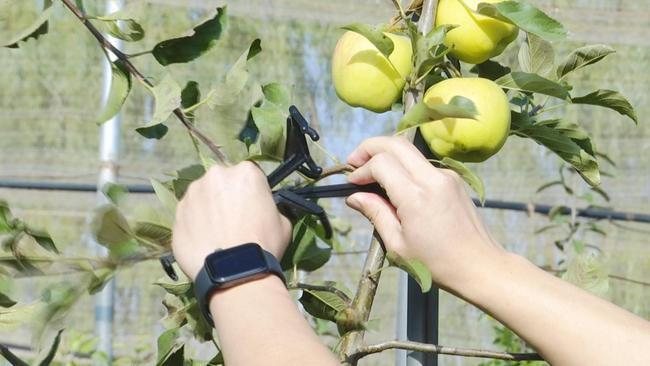apple: (415, 76, 511, 162), (331, 20, 412, 112), (434, 1, 519, 64)
